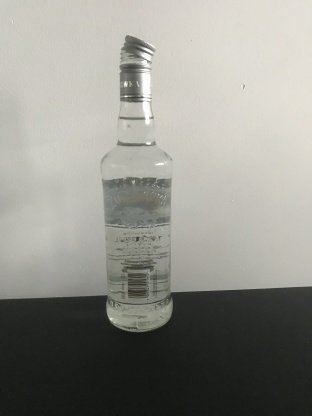nakretka: (118, 32, 156, 102)
